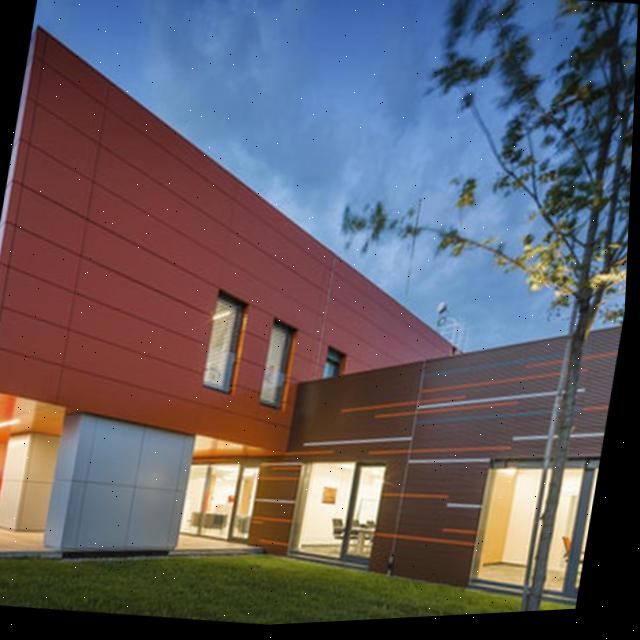building: (0, 0, 639, 632)
